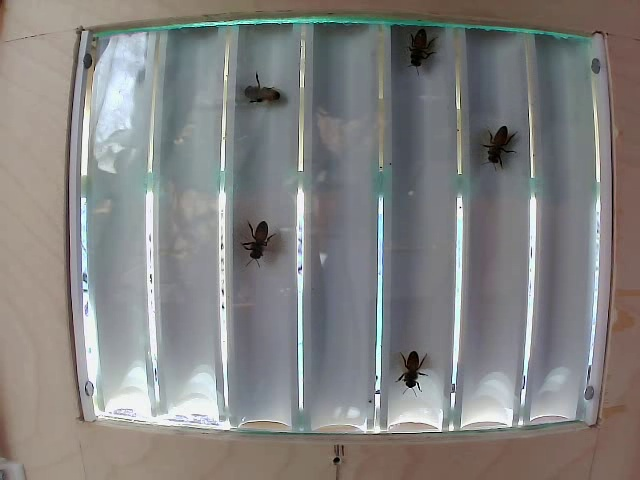bee: (231, 67, 280, 122), (237, 212, 274, 264), (392, 339, 426, 390), (476, 118, 519, 156), (400, 23, 432, 69)
